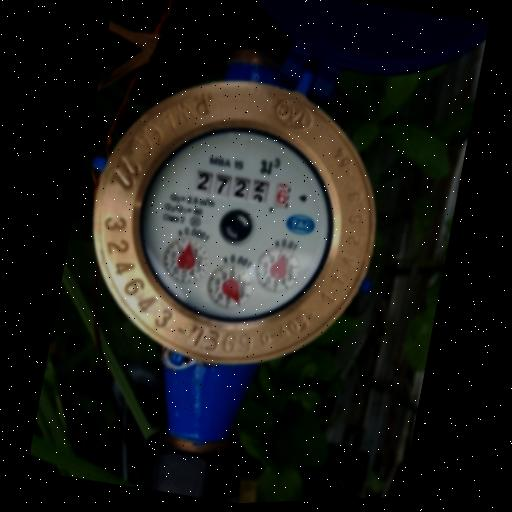2: (252, 180, 270, 204), (194, 172, 213, 194), (233, 177, 250, 201)
6: (274, 183, 291, 208)
7: (213, 174, 232, 198)
border_water_meter_number: (192, 165, 293, 213)
